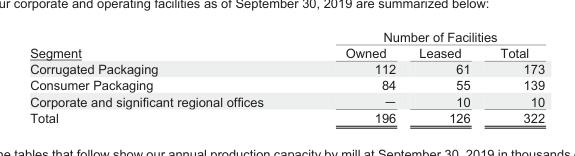table: (29, 29, 544, 124)
table column: (29, 29, 303, 124), (303, 29, 406, 124), (406, 29, 484, 124), (484, 29, 544, 124)
table column header: (29, 29, 544, 60)
table row: (29, 76, 544, 93), (29, 44, 544, 60), (29, 60, 544, 76), (29, 93, 544, 109), (29, 29, 544, 44), (29, 109, 544, 124)
table spanning cell: (29, 29, 303, 60), (303, 29, 544, 44)
